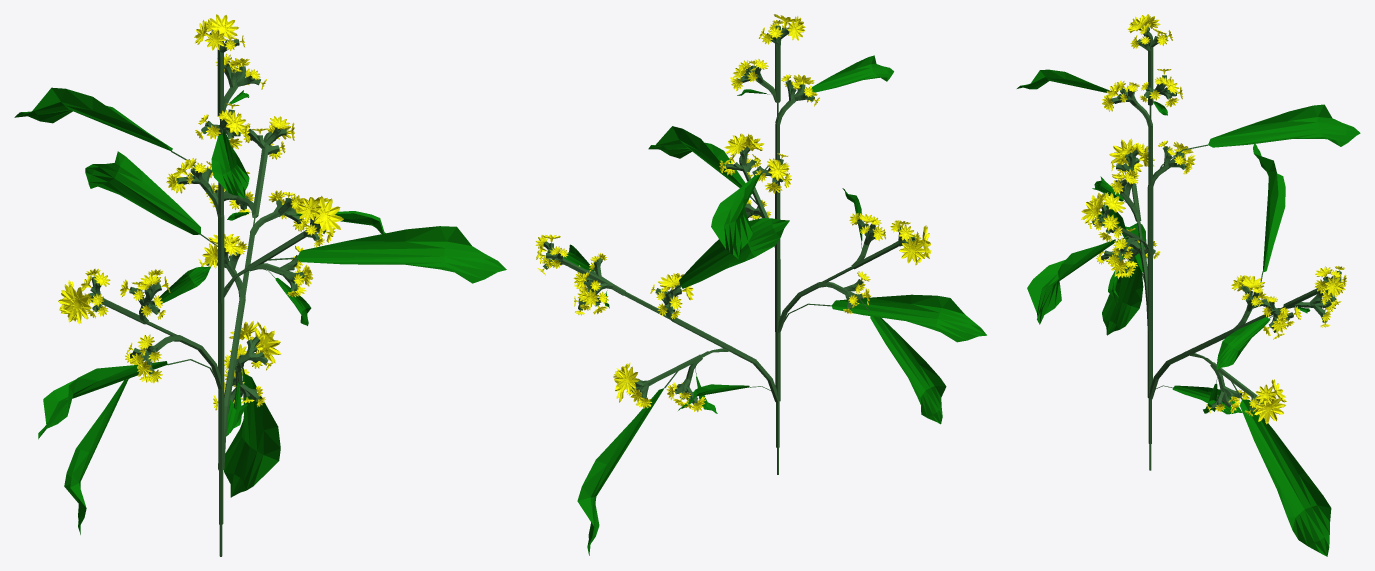
Rendered from plants1.obj.
3 renders of one model, left to right at view 1: azimuth 30°, elevation 25°; view 2: azimuth 150°, elevation 25°; view 3: azimuth 270°, elevation 25°, orthographic. The views are drawn at different scales.
Visible parts, largest first — view 1: 1Newplan; view 2: 1Newplan; view 3: 1Newplan.
Part boxes in pixels (x1,y1,x2,y2): 1Newplan: [14, 14, 506, 556]; 1Newplan: [535, 14, 986, 555]; 1Newplan: [1017, 14, 1360, 556].
Bounding box in the file's own units: 668 × 865 × 550.
